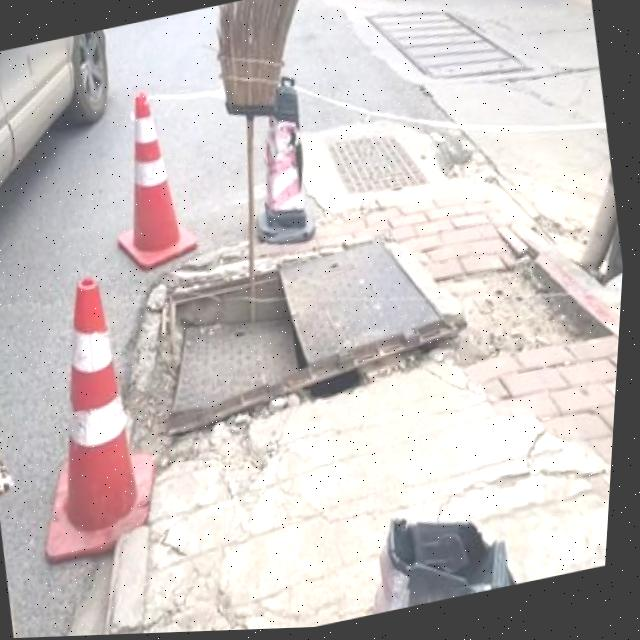manhole: (134, 212, 479, 452)
